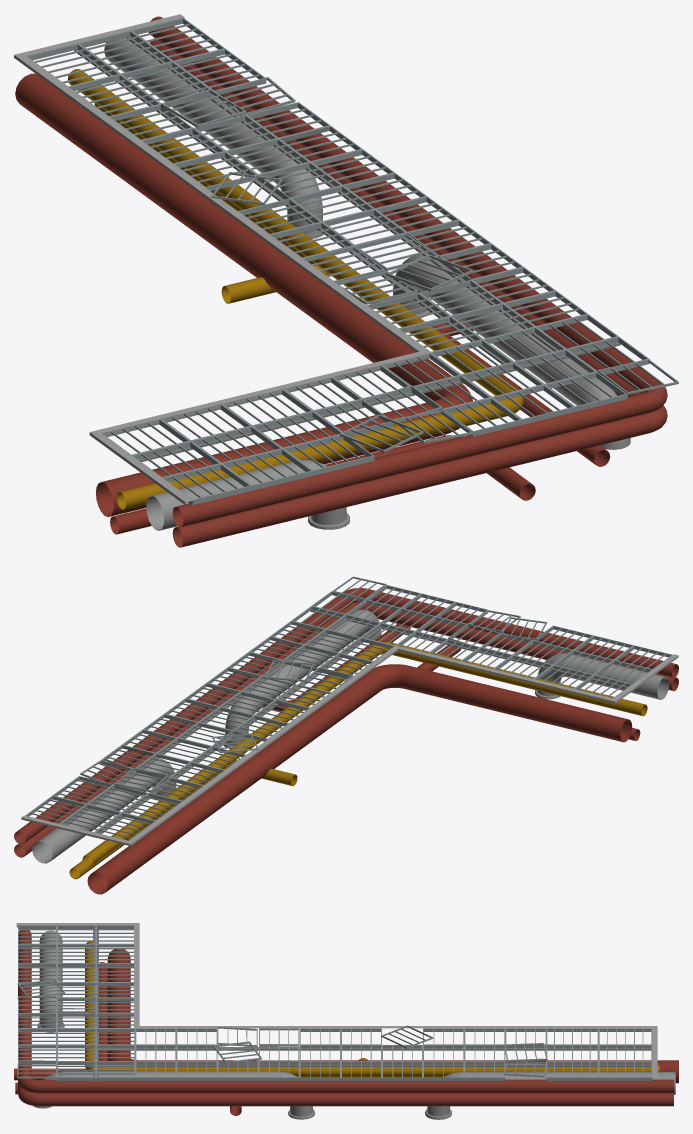
3 views of the same model, one above another, from view 1: azimuth 30°, elevation 25°; view 2: azimuth 150°, elevation 25°; view 3: azimuth 270°, elevation 25° (orthographic). The views are drawn at different scales.
Parts seen in each view (by area): view 1: SM_I_RoadFacility_Ground_C_04b; view 2: SM_I_RoadFacility_Ground_C_04b; view 3: SM_I_RoadFacility_Ground_C_04b.
Part boxes in pixels (x1,y1,x2,y2): SM_I_RoadFacility_Ground_C_04b: (14,14,678,547); SM_I_RoadFacility_Ground_C_04b: (14,576,678,894); SM_I_RoadFacility_Ground_C_04b: (14,923,678,1119).
Size of the model in its own units: 594 by 331 by 53.39.
